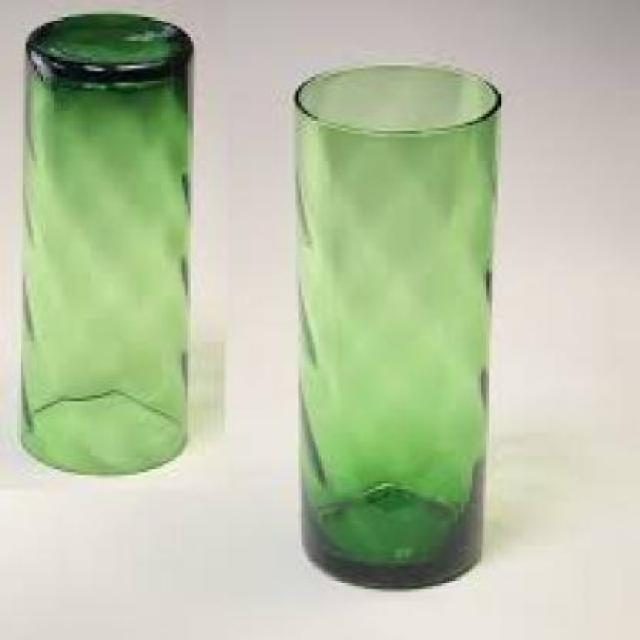kaca: (291, 63, 498, 589), (14, 8, 188, 472)
